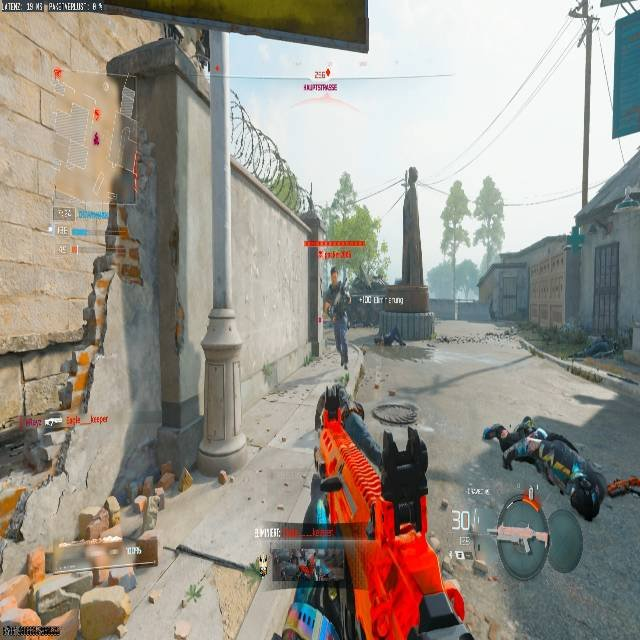head: (569, 477, 602, 521), (482, 423, 506, 440), (331, 263, 344, 280)
player: (324, 267, 353, 369)
